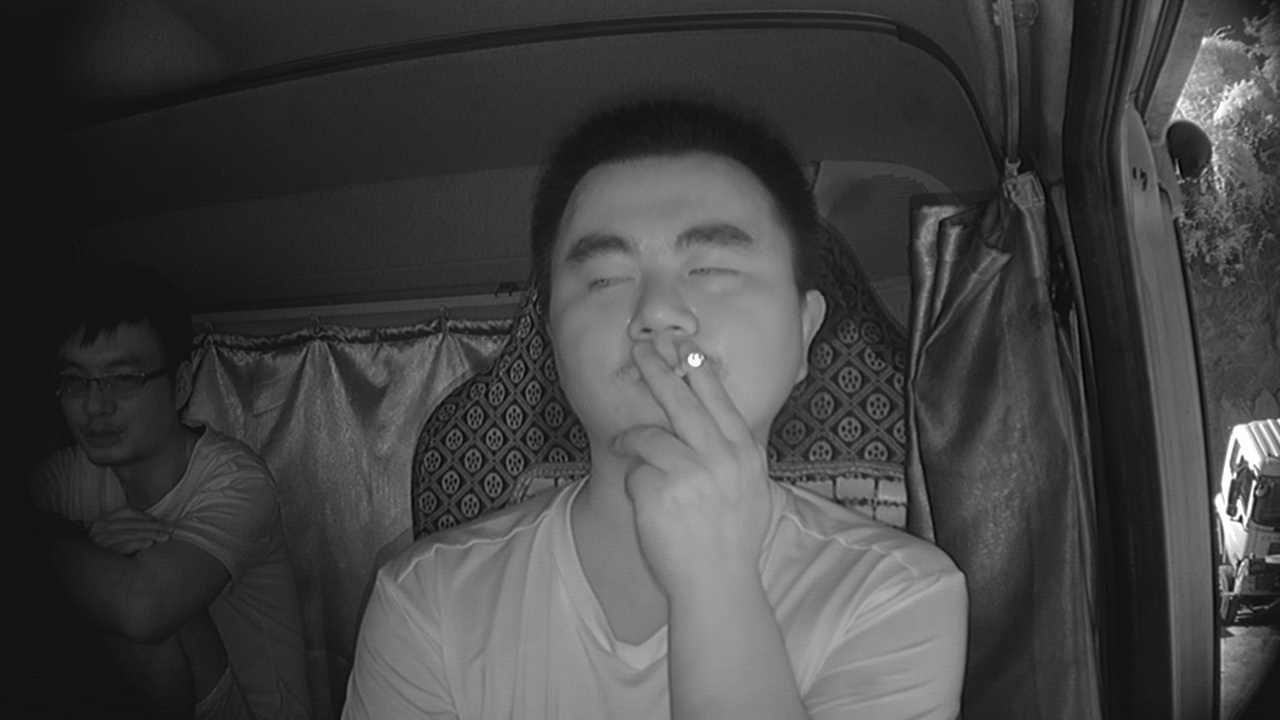hand: (609, 340, 763, 559)
